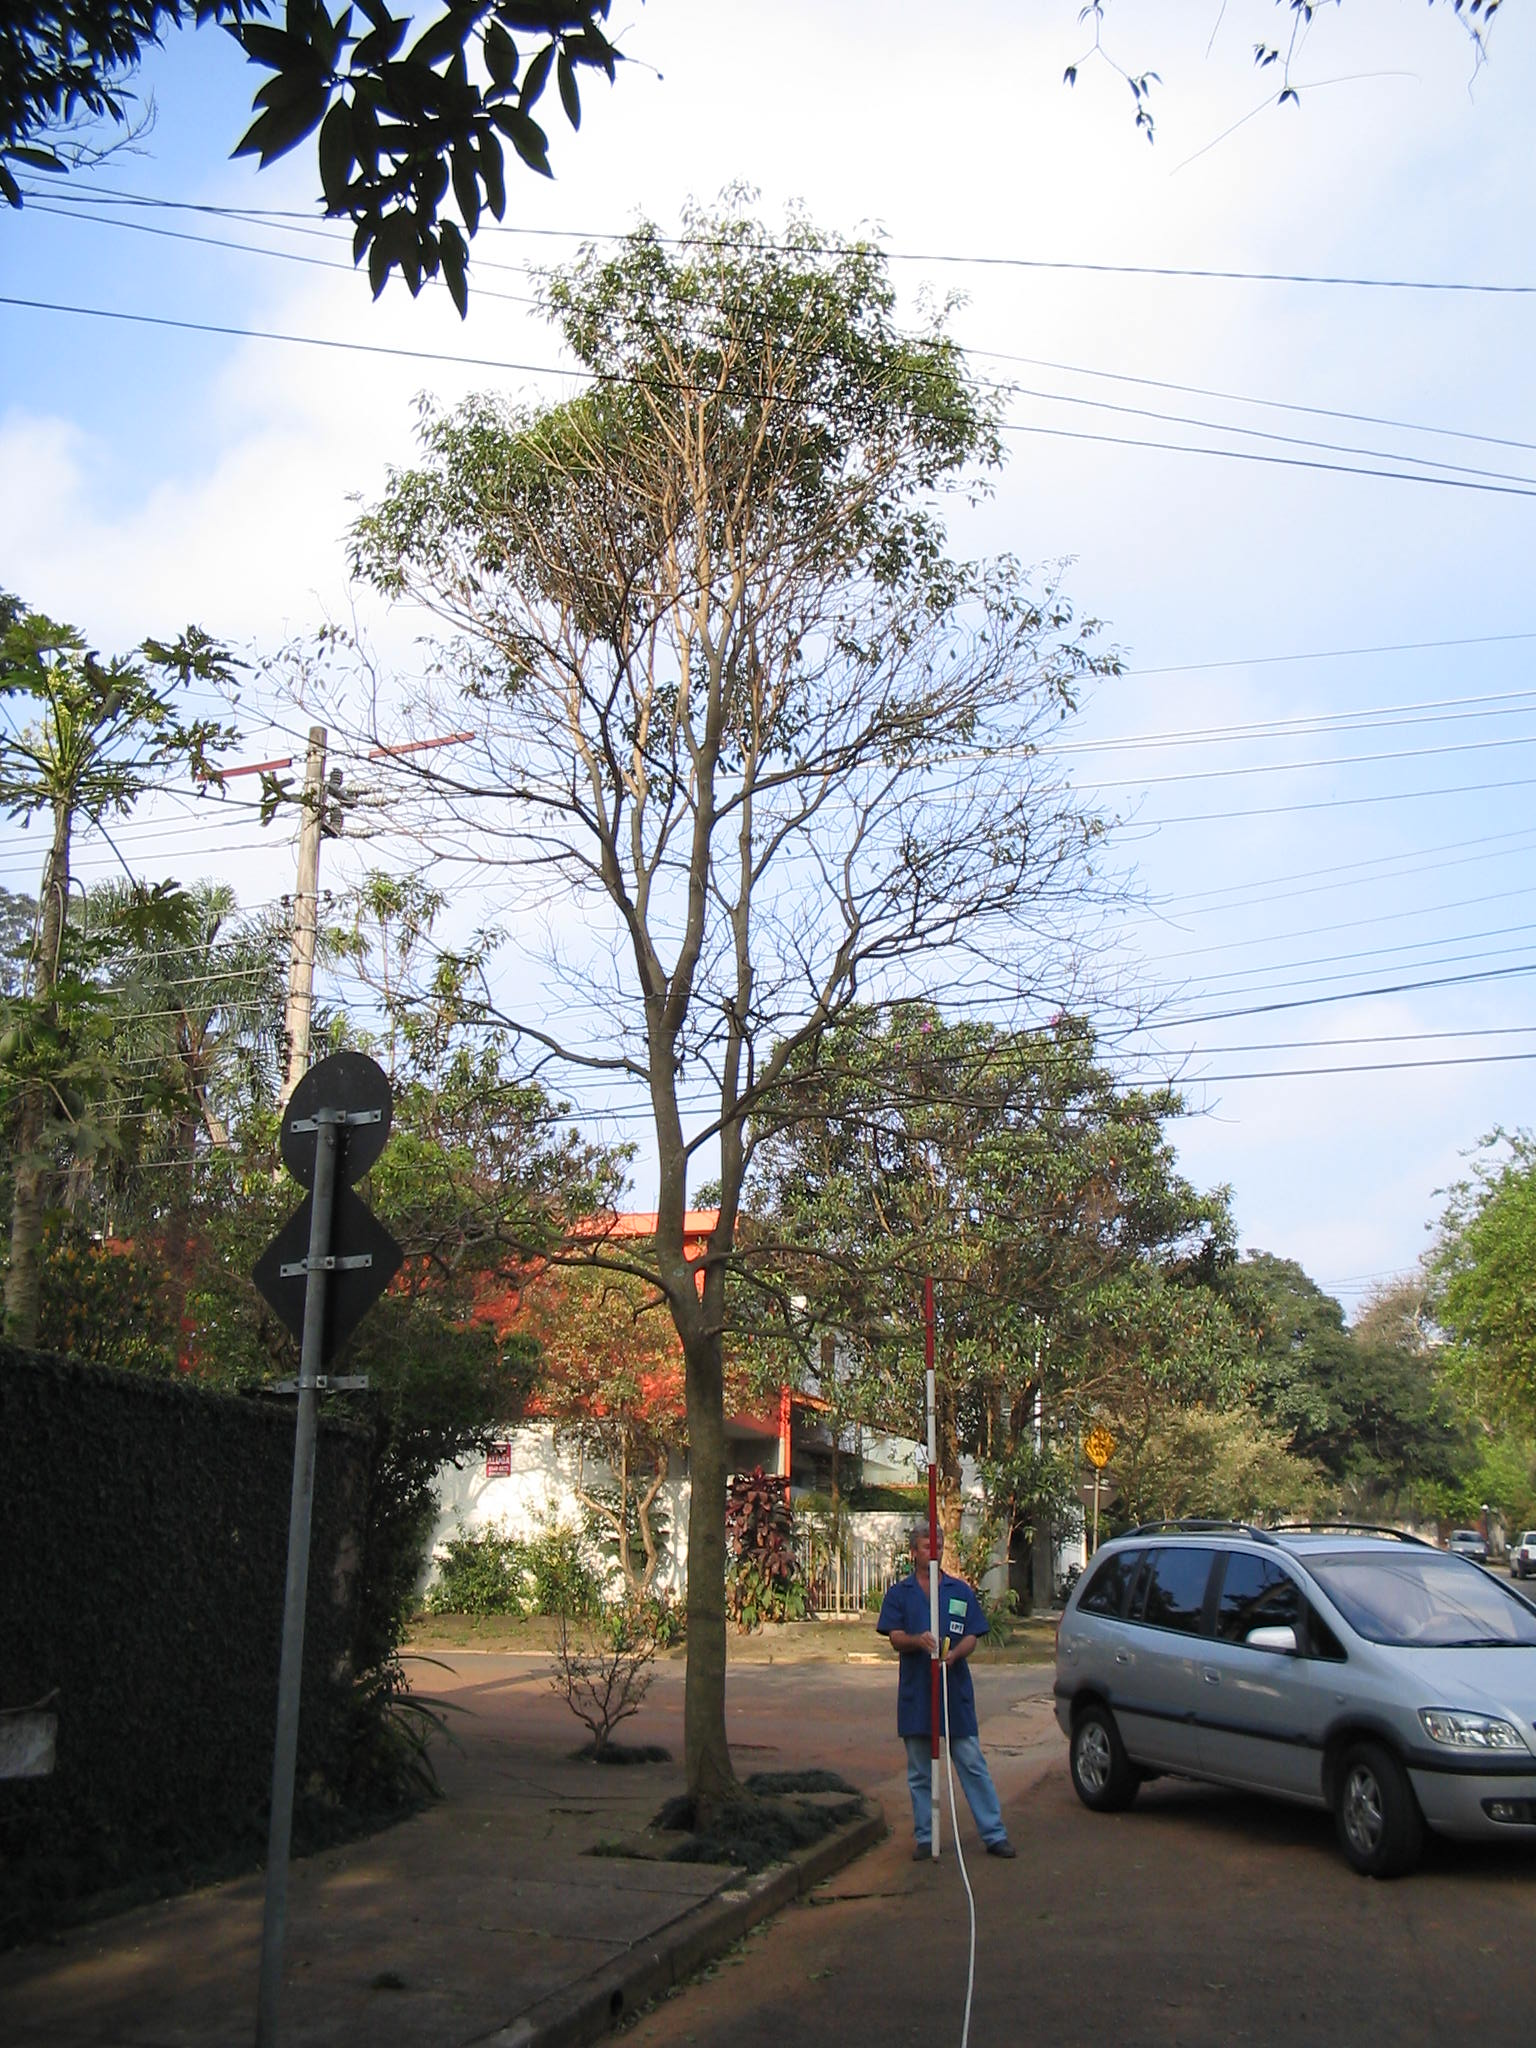crown: (252, 200, 1200, 1024)
stem: (615, 1347, 795, 1832)
stick: (883, 1282, 984, 1861)
tree: (240, 192, 1204, 1840), (6, 568, 260, 1332)
